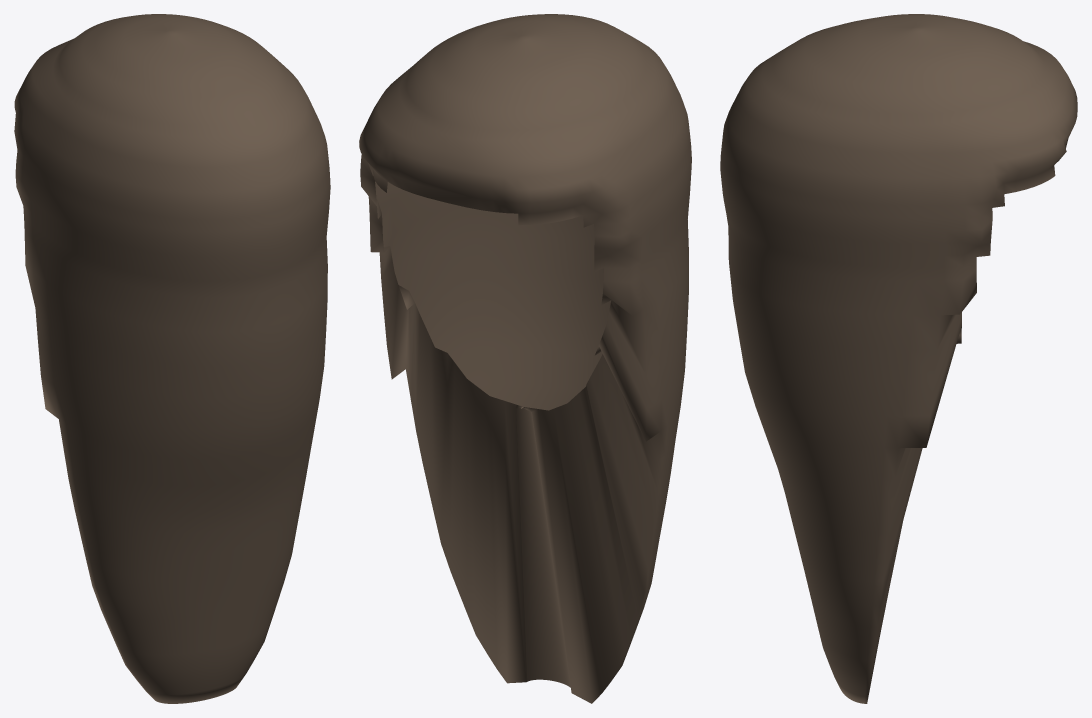
File: gente.pelo_largo.fbx
3 renders of one model, left to right at view 1: azimuth 30°, elevation 25°; view 2: azimuth 150°, elevation 25°; view 3: azimuth 270°, elevation 25°, orthographic. The views are drawn at different scales.
Visible parts, largest first — view 1: Pelo largo; view 2: Pelo largo; view 3: Pelo largo.
Boxes of the visible parts, bbox=[...] form: Pelo largo: bbox=[14, 14, 330, 703]; Pelo largo: bbox=[359, 14, 691, 703]; Pelo largo: bbox=[720, 14, 1077, 703].
Size of the model in its own units: 0.2081 by 0.5005 by 0.2477.
